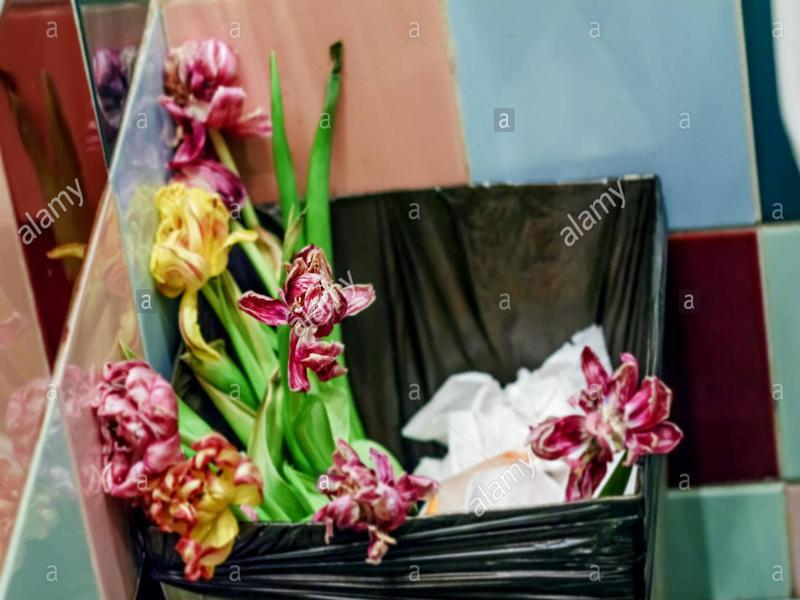flowers: (65, 28, 433, 579), (523, 341, 691, 502)
